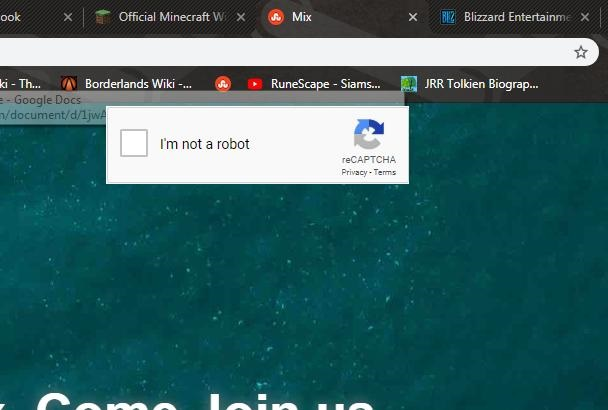captcha: (120, 129, 252, 156)
